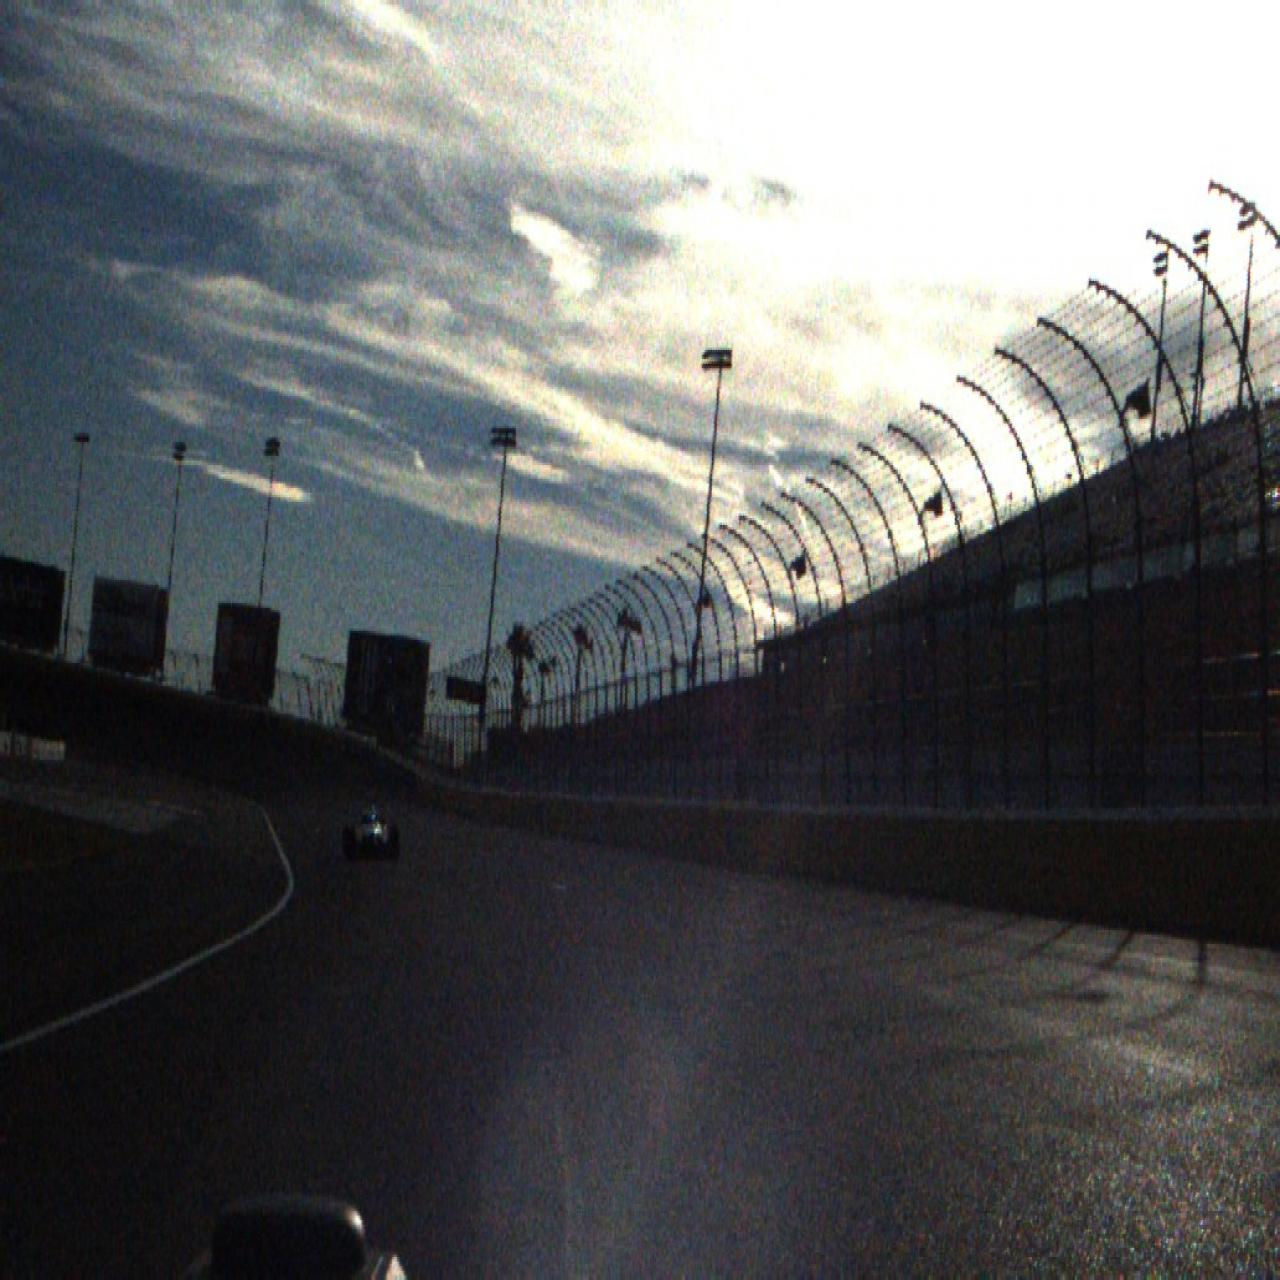AV: (342, 797, 401, 863)
Wheel: (388, 825, 401, 862), (342, 828, 355, 862)
